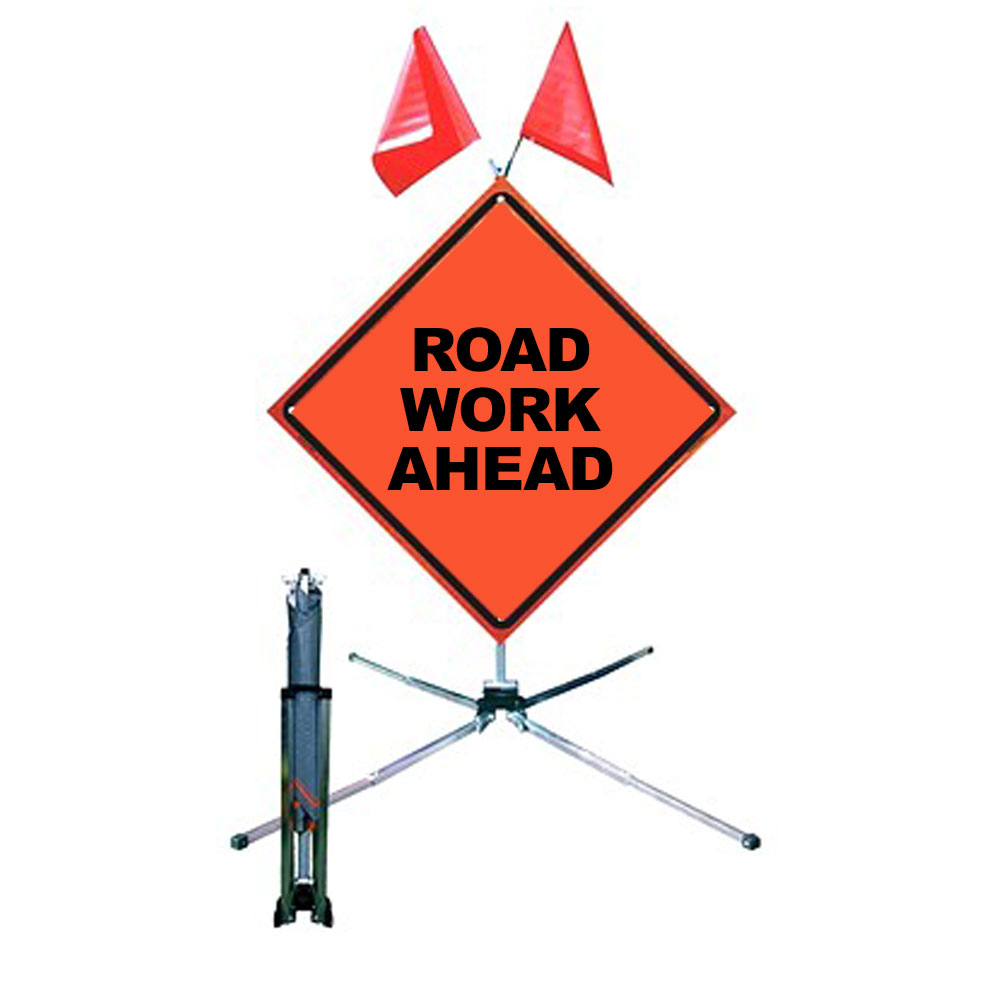Road_workahead: (251, 172, 757, 641)
